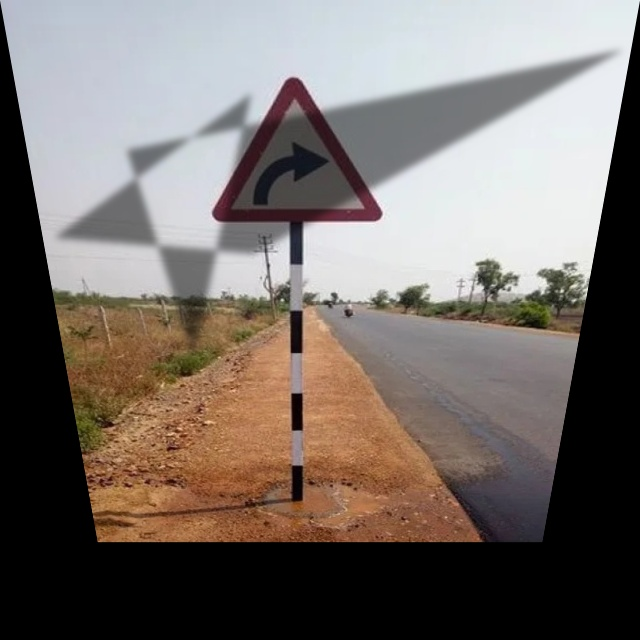Right_Hand_Curve: (203, 76, 382, 220)
